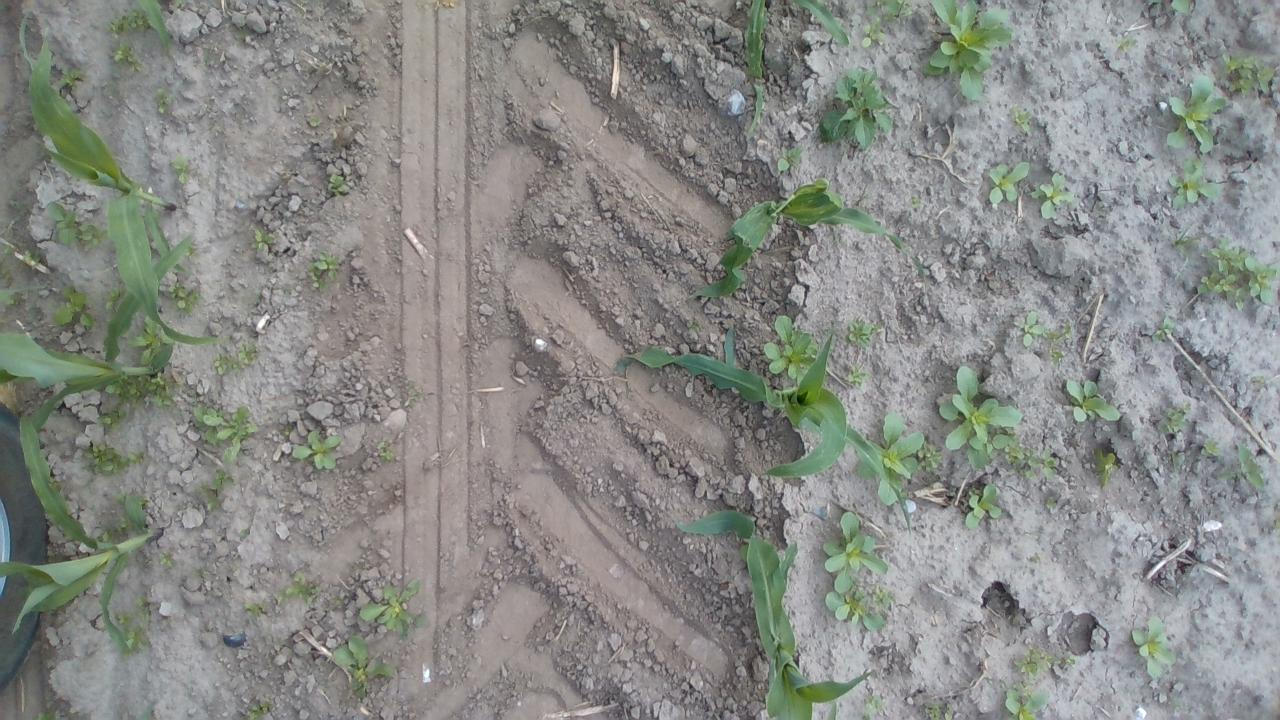Maize: (20, 13, 222, 345), (618, 329, 916, 498), (672, 508, 882, 718), (0, 418, 158, 660), (2, 236, 196, 426), (688, 178, 939, 303), (746, 3, 848, 144)
Weeds: (937, 367, 1025, 470), (928, 0, 1015, 102), (812, 70, 904, 154), (1195, 238, 1280, 318), (822, 512, 898, 594), (857, 412, 922, 505), (1160, 76, 1234, 156), (352, 576, 432, 643), (326, 634, 399, 706), (760, 313, 821, 384), (188, 400, 260, 459), (823, 576, 894, 634), (1222, 44, 1280, 109), (1132, 610, 1178, 688), (1059, 377, 1125, 429), (110, 1, 156, 73), (1009, 444, 1074, 492), (980, 154, 1033, 212), (1166, 160, 1226, 211), (46, 204, 104, 255), (1016, 638, 1074, 684), (955, 480, 1006, 530), (102, 384, 174, 418), (1036, 170, 1078, 222), (82, 443, 144, 477), (290, 430, 341, 470), (278, 568, 328, 608), (216, 337, 268, 375), (1231, 437, 1266, 492), (49, 294, 95, 334), (1002, 687, 1054, 720), (852, 14, 896, 52), (1046, 318, 1080, 366), (306, 248, 342, 292), (199, 466, 239, 502), (841, 318, 886, 350), (165, 283, 208, 314), (1092, 450, 1124, 490), (1008, 108, 1043, 144), (399, 376, 432, 413), (170, 156, 201, 195), (147, 86, 180, 121), (1020, 308, 1046, 350), (772, 147, 809, 176), (1150, 314, 1183, 344), (118, 622, 152, 650), (242, 600, 277, 627), (247, 227, 275, 260), (238, 698, 281, 718), (1199, 430, 1221, 468), (1160, 406, 1186, 436), (856, 690, 888, 714), (843, 365, 872, 391), (1108, 34, 1142, 53), (326, 172, 354, 195), (130, 596, 156, 620), (156, 552, 180, 574), (374, 446, 402, 464), (304, 112, 323, 131)
